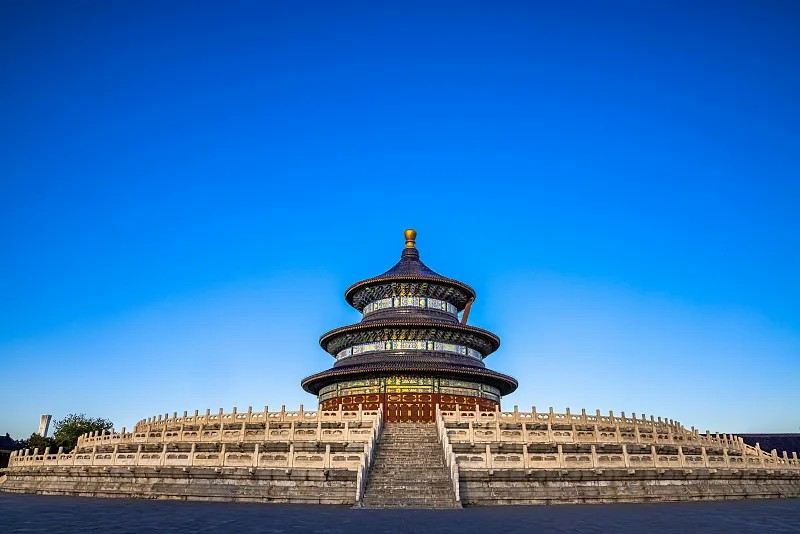Heaven: (300, 229, 520, 424)
